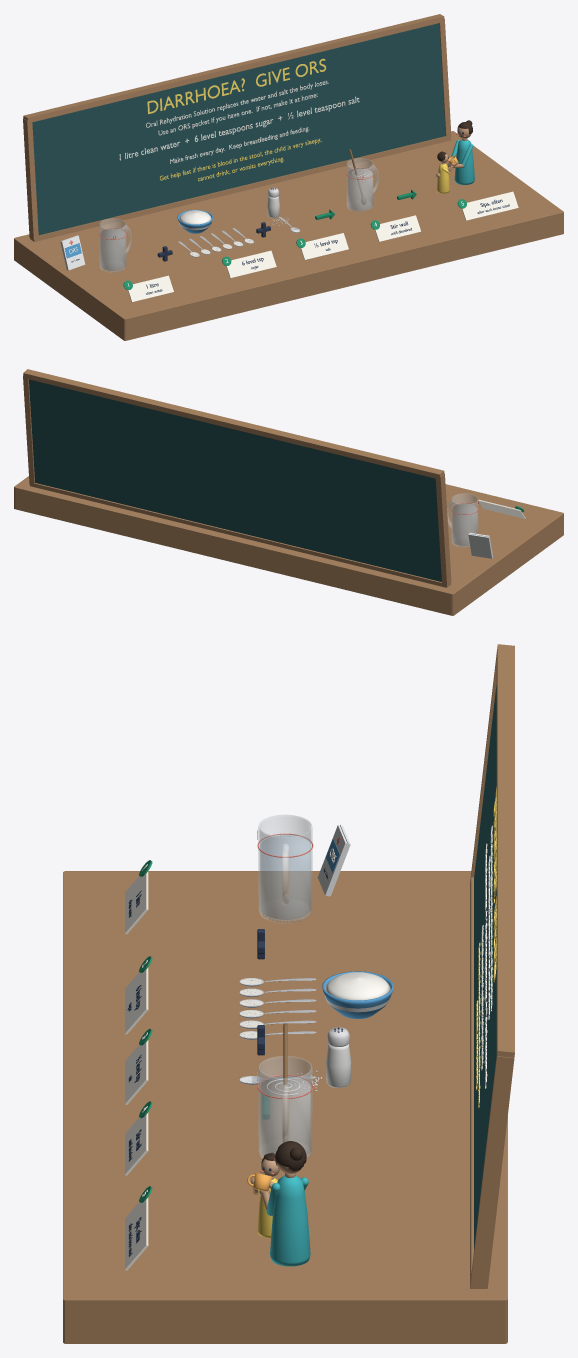
The model's file is ors_oral_rehydration_diorama.glb.
3 views of the same model, one above another, from view 1: azimuth 30°, elevation 25°; view 2: azimuth 150°, elevation 25°; view 3: azimuth 270°, elevation 25° (orthographic). The views are drawn at different scales.
Parts seen in each view (by area): view 1: Table Top, Backboard Panel, Backboard Frame Top, Backboard Frame Bottom, Jug Clean Water Glass, Jug ORS Glass, Backboard Frame Left, Title, Jug Clean Water Liquid, Card 5 Board, Jug ORS Liquid, Card 2 Board (+11 smaller); view 2: Backboard Panel, Table Top, Backboard Frame Top, Backboard Frame Bottom, Jug Clean Water Glass, Backboard Frame Left, Jug Clean Water Liquid, Backboard Frame Right, ORS Packet Body, Card 1 Board; view 3: Table Top, Backboard Frame Top, Backboard Panel, Jug Clean Water Glass, Jug ORS Glass, Backboard Frame Right, Jug Clean Water Liquid, Caregiver Body, Jug ORS Liquid, Backboard Frame Bottom, Sugar Heap, Card 5 Board (+8 smaller).
Part boxes in pixels (x1=…): Table Top: x1=14, y1=131, x2=563, y2=340; Backboard Panel: x1=32, y1=23, x2=445, y2=235; Backboard Frame Top: x1=23, y1=14, x2=444, y2=122; Backboard Frame Bottom: x1=30, y1=135, x2=451, y2=241; Jug Clean Water Glass: x1=100, y1=218, x2=126, y2=272; Jug ORS Glass: x1=347, y1=158, x2=373, y2=212; Backboard Frame Left: x1=23, y1=118, x2=38, y2=239; Title: x1=147, y1=58, x2=326, y2=114; Jug Clean Water Liquid: x1=100, y1=229, x2=125, y2=270; Card 5 Board: x1=462, y1=191, x2=518, y2=220; Jug ORS Liquid: x1=348, y1=168, x2=372, y2=210; Card 2 Board: x1=226, y1=250, x2=276, y2=278; Backboard Panel: x1=29, y1=379, x2=441, y2=581; Table Top: x1=14, y1=476, x2=563, y2=615; Backboard Frame Top: x1=23, y1=369, x2=444, y2=479; Backboard Frame Bottom: x1=29, y1=482, x2=451, y2=587; Jug Clean Water Glass: x1=451, y1=493, x2=477, y2=547; Backboard Frame Left: x1=435, y1=473, x2=451, y2=586; Jug Clean Water Liquid: x1=452, y1=504, x2=477, y2=545; Backboard Frame Right: x1=23, y1=375, x2=34, y2=485; ORS Packet Body: x1=468, y1=532, x2=492, y2=558; Card 1 Board: x1=478, y1=499, x2=525, y2=518; Table Top: x1=63, y1=871, x2=507, y2=1343; Backboard Frame Top: x1=496, y1=644, x2=514, y2=1057; Backboard Panel: x1=474, y1=685, x2=496, y2=1249; Jug Clean Water Glass: x1=258, y1=815, x2=312, y2=923; Jug ORS Glass: x1=258, y1=1056, x2=312, y2=1159; Backboard Frame Right: x1=470, y1=1056, x2=514, y2=1286; Jug Clean Water Liquid: x1=260, y1=835, x2=310, y2=919; Caregiver Body: x1=270, y1=1175, x2=310, y2=1266; Jug ORS Liquid: x1=260, y1=1076, x2=310, y2=1154; Backboard Frame Bottom: x1=470, y1=877, x2=487, y2=1288; Sugar Heap: x1=325, y1=972, x2=390, y2=1000; Card 5 Board: x1=125, y1=1197, x2=148, y2=1270.
Size of the model in its own units: 2.1 by 0.6429 by 0.9348.
